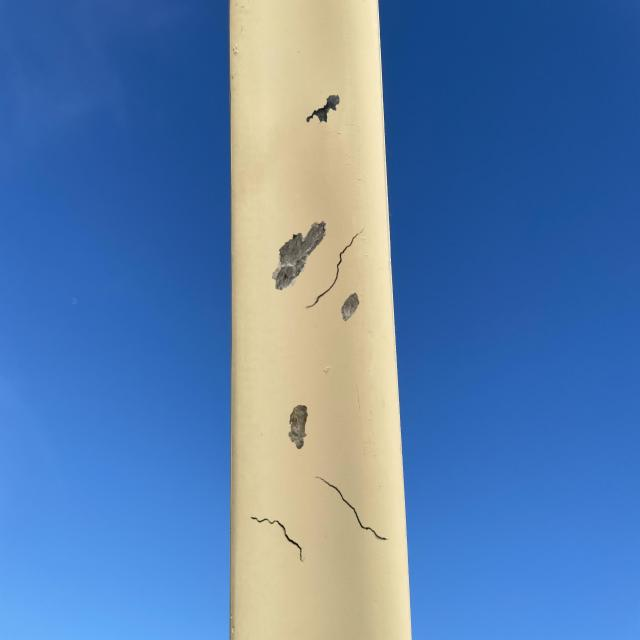Coating_defects: (273, 221, 329, 292), (305, 94, 340, 128), (288, 405, 312, 451), (341, 295, 359, 321)
Crack: (316, 473, 389, 541), (307, 228, 364, 308), (252, 518, 304, 558)
